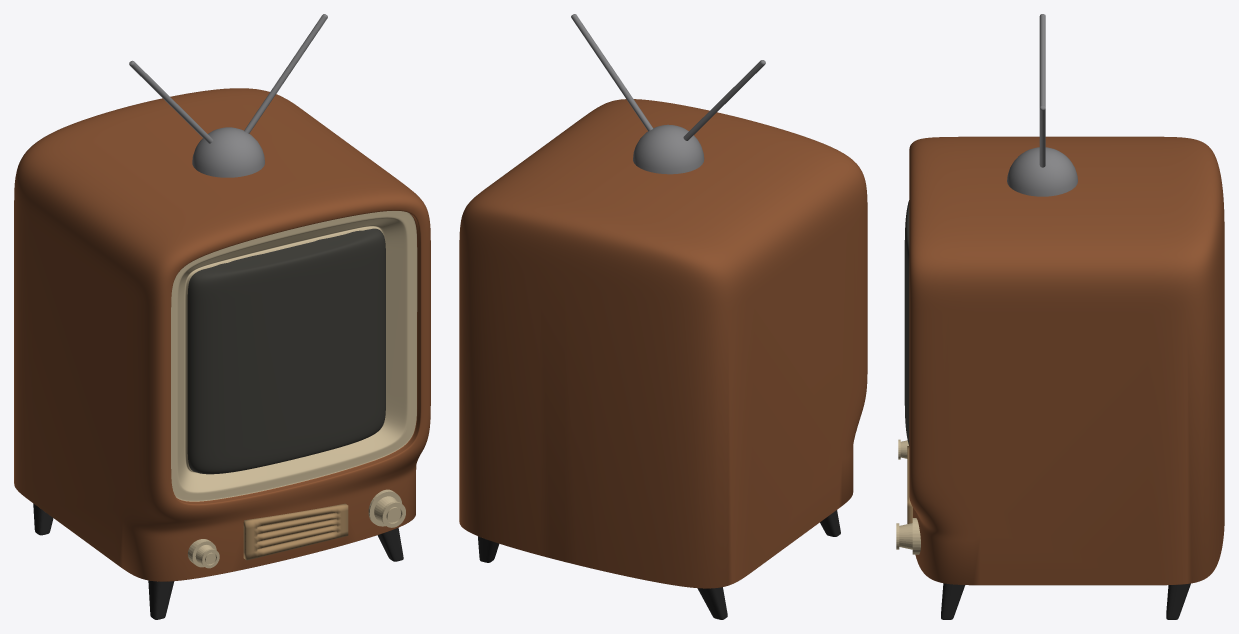
3 renders of one model, left to right at view 1: azimuth 30°, elevation 25°; view 2: azimuth 150°, elevation 25°; view 3: azimuth 270°, elevation 25°, orthographic. The views are drawn at different scales.
Visible parts, largest first — view 1: Cube.004; view 2: Cube.004; view 3: Cube.004.
Boxes of the visible parts, left/top/right/bottom form: Cube.004: left=14, top=14, right=430, bottom=619; Cube.004: left=459, top=14, right=867, bottom=619; Cube.004: left=896, top=14, right=1224, bottom=619.
Bounding box in the file's own units: 61.01 × 106 × 63.06.
